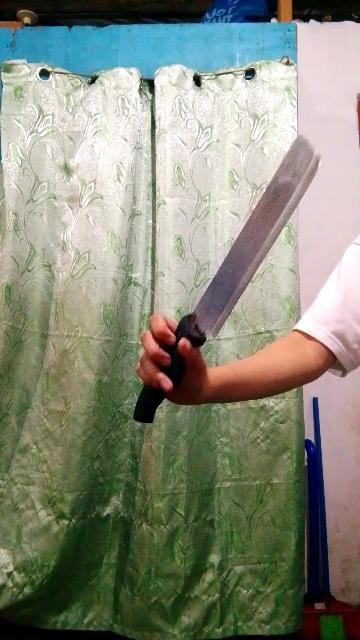long knife: (132, 118, 318, 426)
